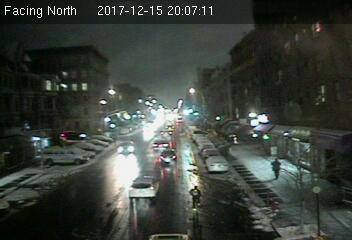bicycle: (188, 185, 202, 218)
car: (127, 171, 162, 200), (206, 156, 229, 173), (116, 141, 136, 156), (159, 150, 177, 165), (151, 137, 169, 150)
pedestrian: (271, 159, 283, 184)
